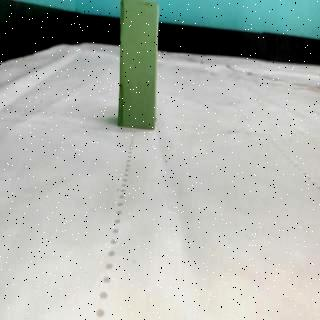greenbox: (118, 0, 158, 130)
